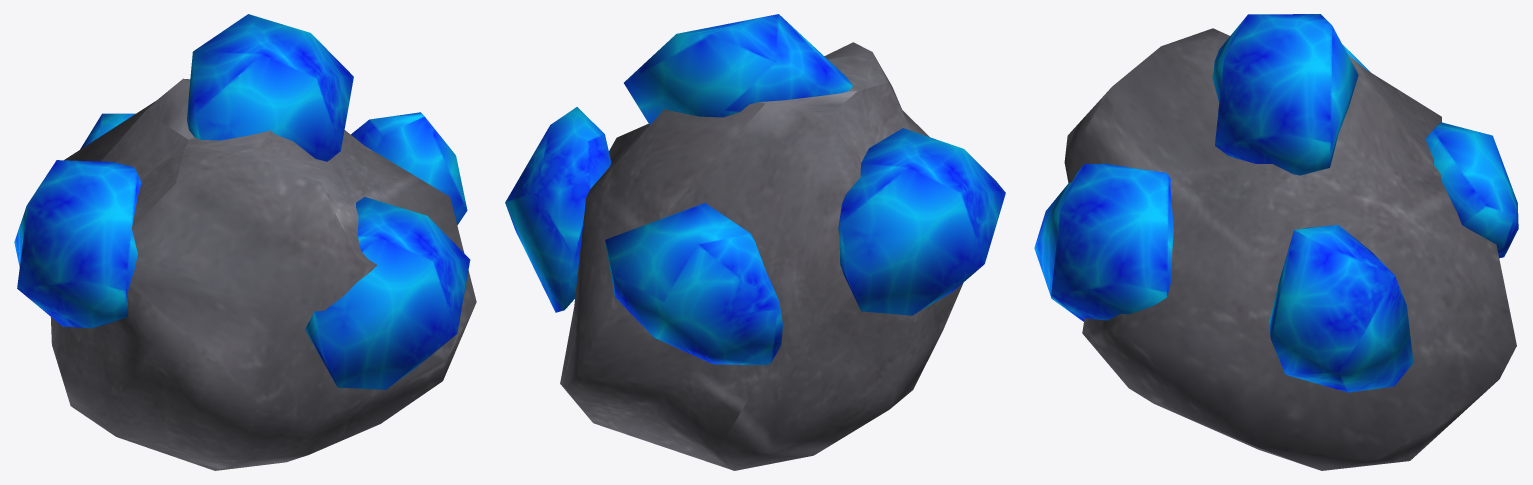
The model's file is winfstoneOreLP.fbx.
3 renders of one model, left to right at view 1: azimuth 30°, elevation 25°; view 2: azimuth 150°, elevation 25°; view 3: azimuth 270°, elevation 25°, orthographic. The views are drawn at different scales.
Parts seen in each view (by area): view 1: Ore.023, WindstoneParticle.025; view 2: Ore.023, WindstoneParticle.025; view 3: Ore.023, WindstoneParticle.025.
Part boxes in pixels (x1,y1,x2,y2): Ore.023: (50, 78, 476, 470); WindstoneParticle.025: (14, 14, 470, 389); Ore.023: (560, 42, 963, 470); WindstoneParticle.025: (505, 14, 1005, 364); Ore.023: (1064, 28, 1516, 470); WindstoneParticle.025: (1034, 14, 1518, 392).
Bounding box in the file's own units: 417 × 372 × 382.
